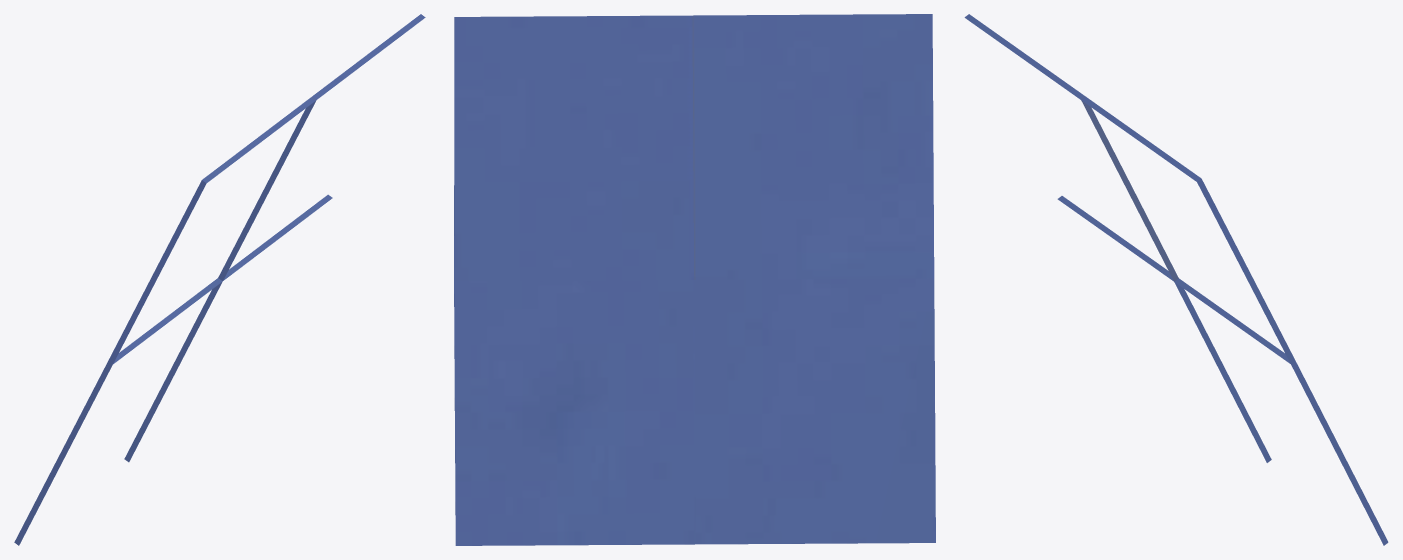
3 renders of one model, left to right at view 1: azimuth 30°, elevation 25°; view 2: azimuth 150°, elevation 25°; view 3: azimuth 270°, elevation 25°, orthographic. The views are drawn at different scales.
Size of the model in its own units: 19665 by 17822 by 16579.
Materials: 1 (1 with a texture image).
